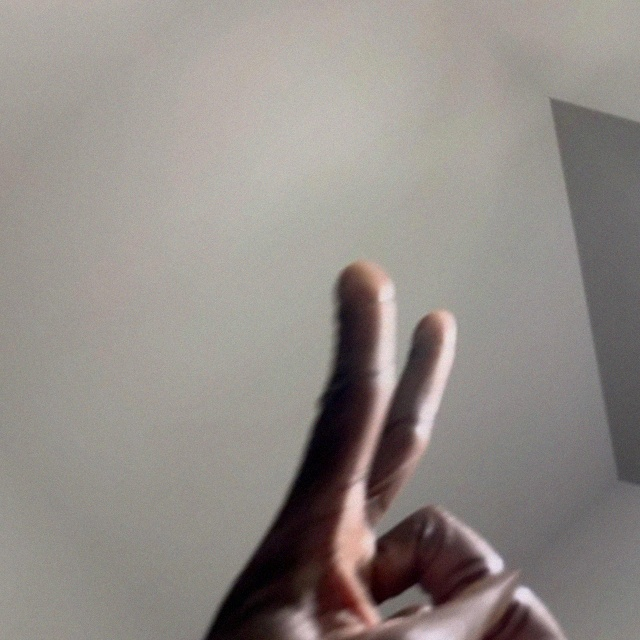Scissors: (69, 233, 612, 640)
